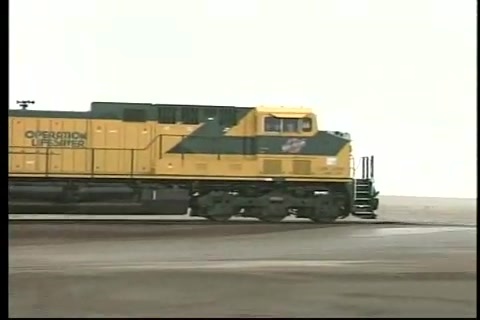train: (10, 96, 381, 223)
